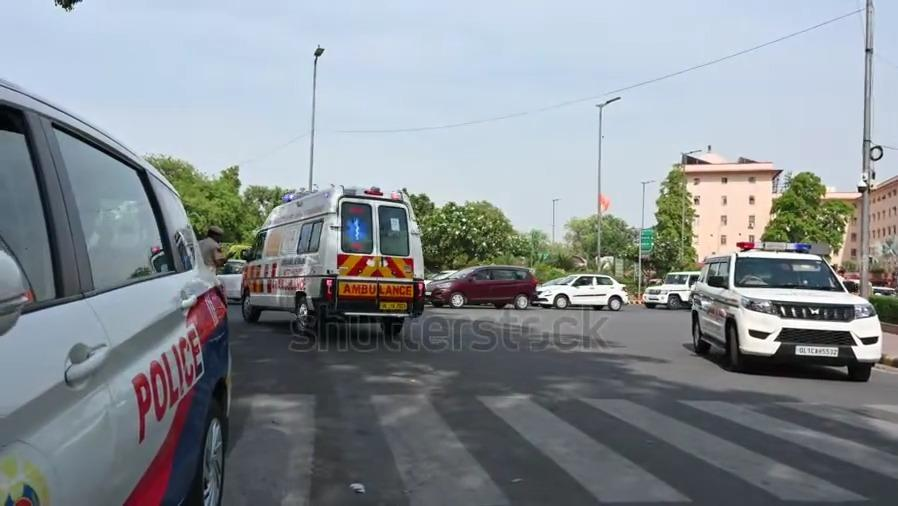Ambulance: (342, 281, 416, 299)
